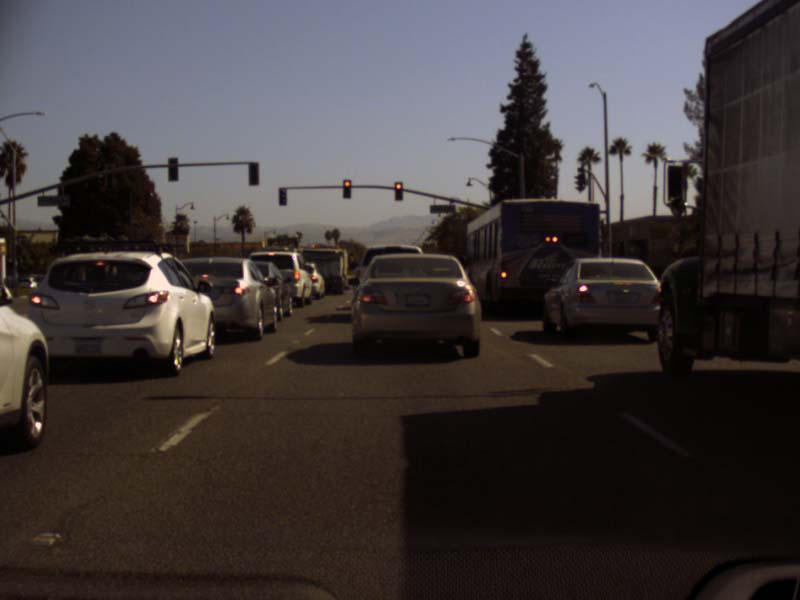Red: (394, 181, 402, 200), (342, 179, 350, 197)
